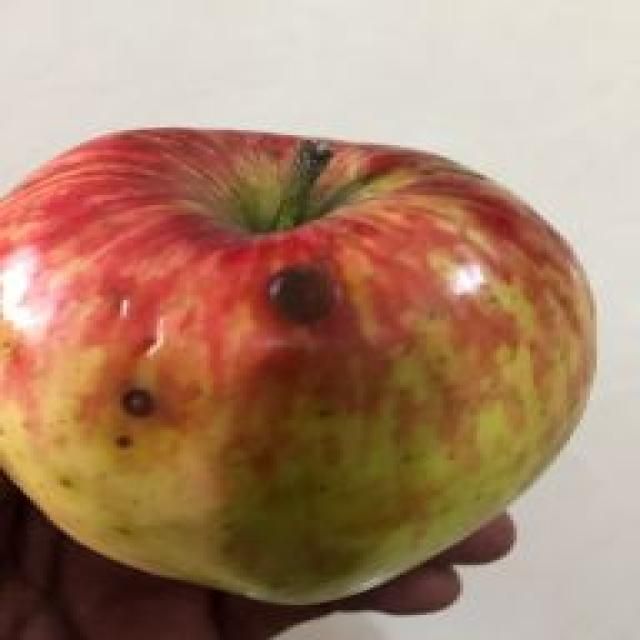Bad_Apple: (2, 130, 593, 603)
